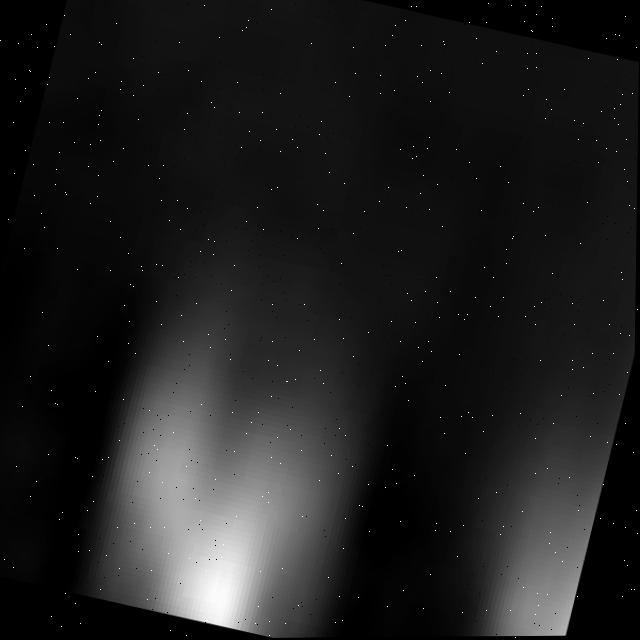person: (49, 199, 431, 640), (463, 278, 638, 638)
